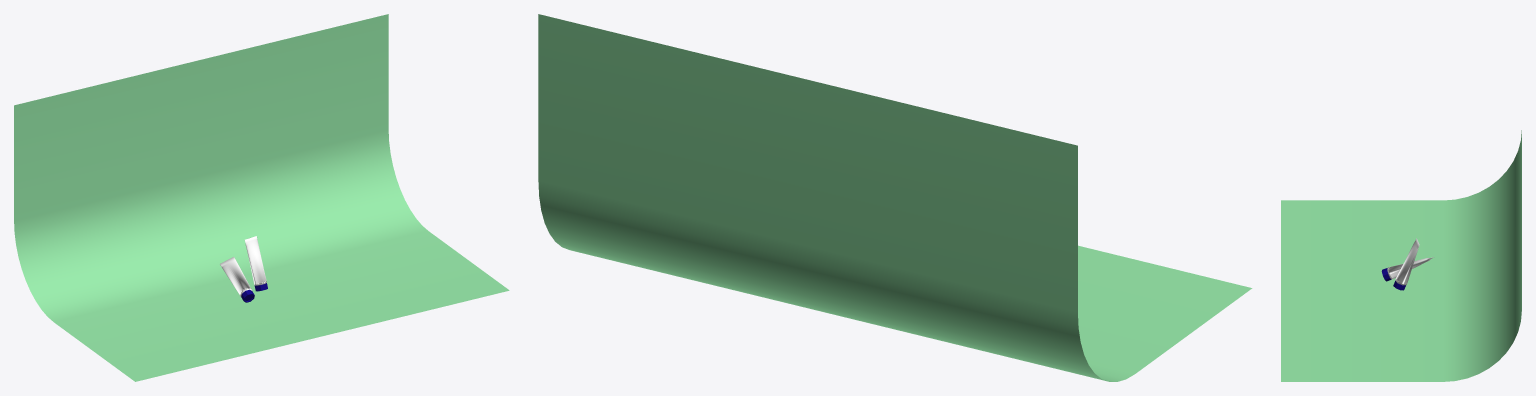
File: nivea.glb
3 views of the same model, side by side, from view 1: azimuth 30°, elevation 25°; view 2: azimuth 150°, elevation 25°; view 3: azimuth 270°, elevation 25° (orthographic). The views are drawn at different scales.
Visible parts, largest first — view 1: Plane, Cylinder, Cylinder.002; view 2: Plane; view 3: Plane, Cylinder, Cylinder.002.
Part boxes in pixels (bbox=[...]): Plane: bbox=[14, 14, 509, 381]; Cylinder: bbox=[244, 236, 266, 285]; Cylinder.002: bbox=[220, 257, 252, 296]; Plane: bbox=[538, 14, 1252, 381]; Plane: bbox=[1281, 130, 1521, 381]; Cylinder: bbox=[1395, 238, 1419, 285]; Cylinder.002: bbox=[1387, 257, 1433, 279].
Size of the model in its own units: 3.52 by 1.69 by 1.98.
